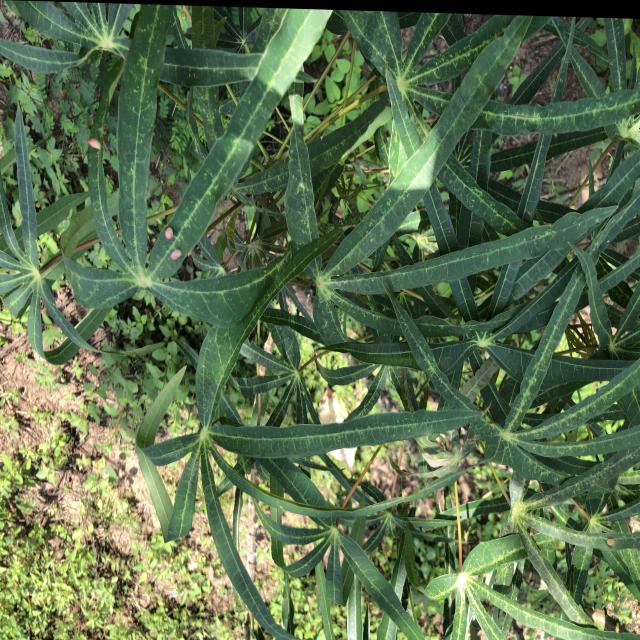Mosca: (161, 219, 187, 265), (80, 124, 115, 154), (591, 532, 630, 553)
